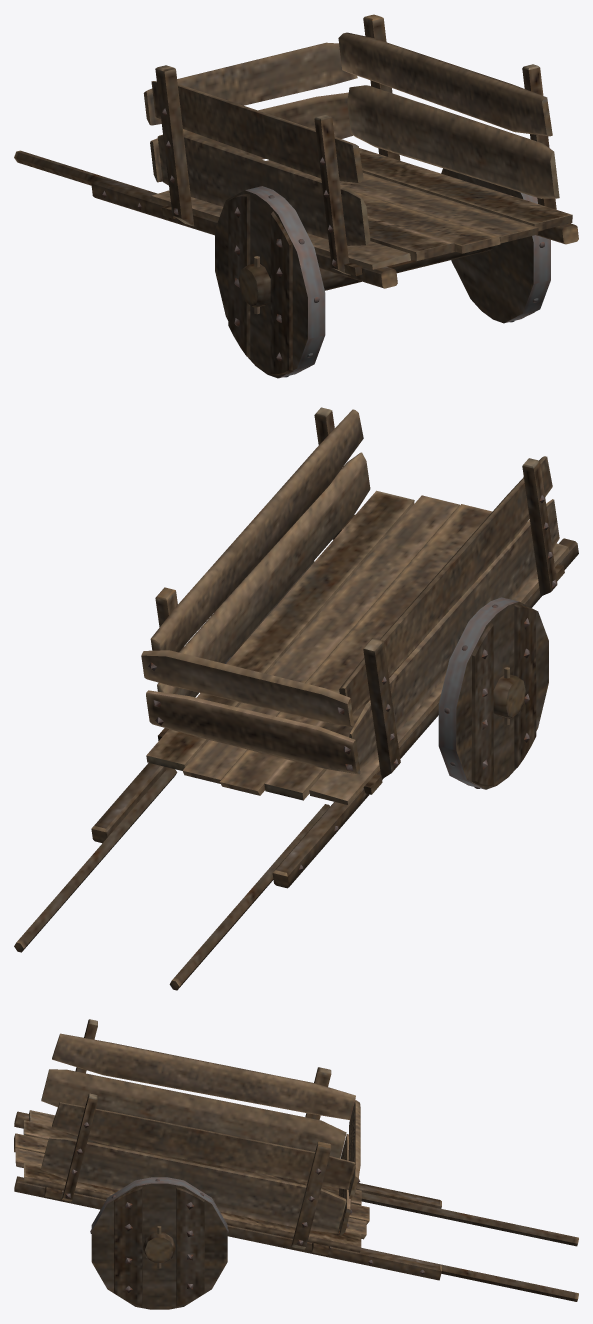
Rendered from CAMP_handCart.FBX.
3 views of the same model, one above another, from view 1: azimuth 30°, elevation 25°; view 2: azimuth 150°, elevation 25°; view 3: azimuth 270°, elevation 25° (orthographic). The views are drawn at different scales.
Parts seen in each view (by area): view 1: CAMP_handCart; view 2: CAMP_handCart; view 3: CAMP_handCart.
Boxes of the visible parts, x1,y1,x2,y2 form: CAMP_handCart: (14, 14, 578, 378); CAMP_handCart: (14, 407, 578, 990); CAMP_handCart: (14, 1019, 578, 1309).
Bounding box in the file's own units: 97.83 × 103 × 244.
1 material, 1 textured.
